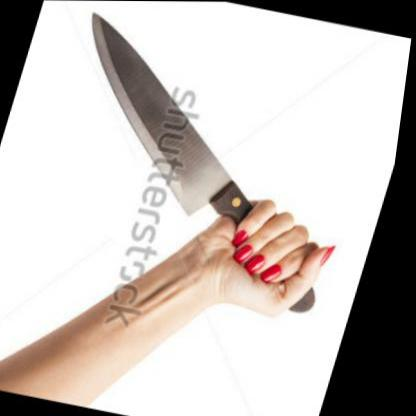knife: (23, 2, 339, 276)
